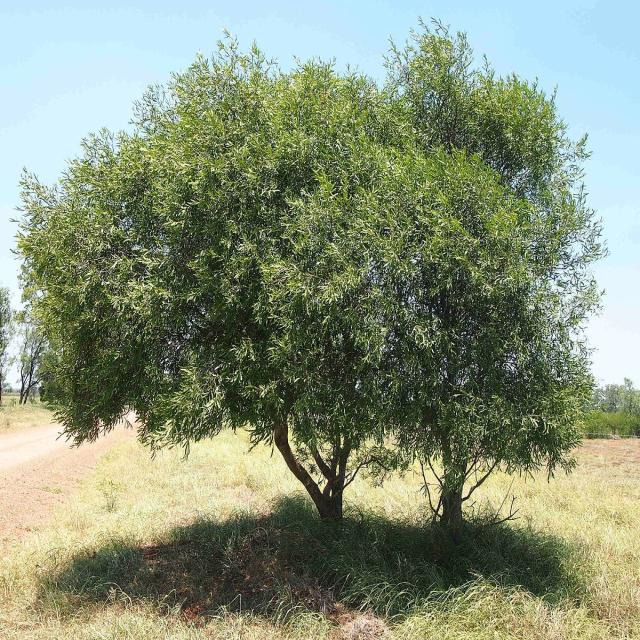Acacia: (14, 19, 636, 532)
